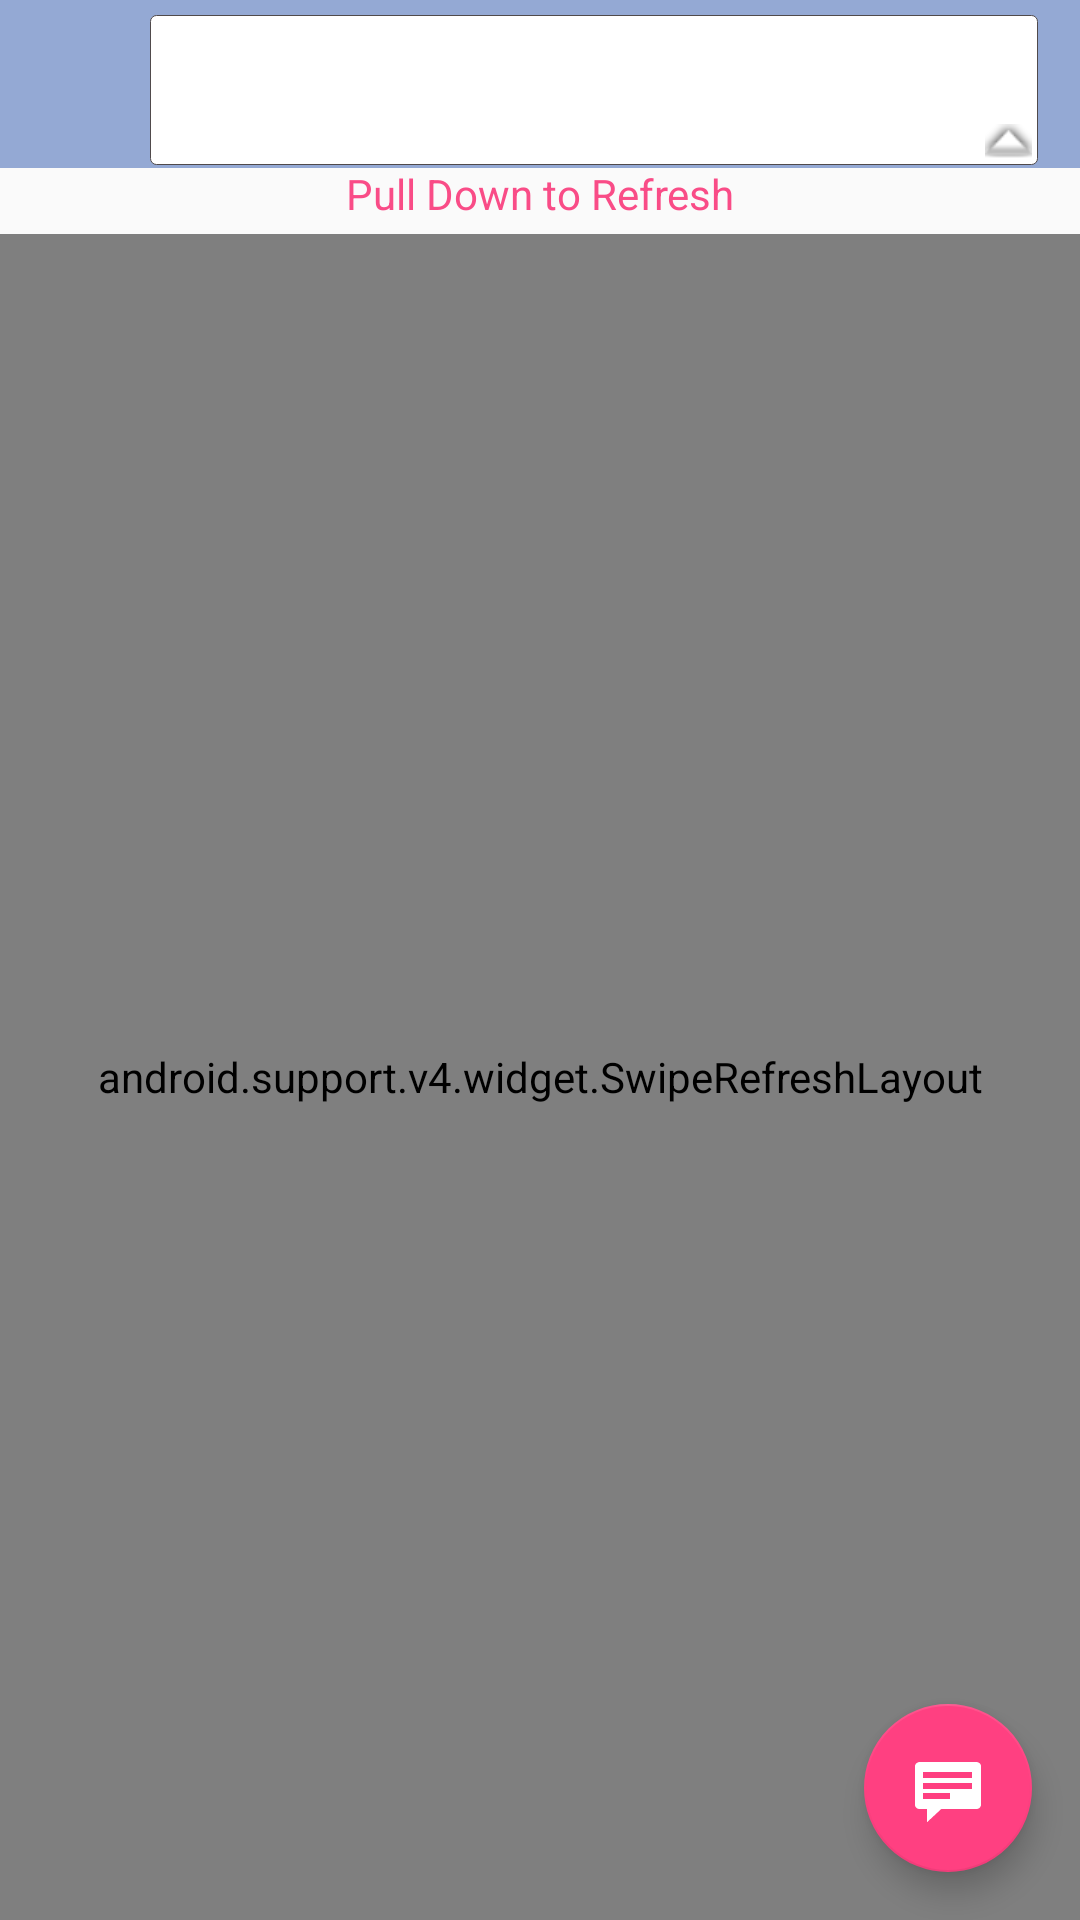

Icon click points for this 1080 x 1920 phone screenshot, format point (x, y):
chat: point (948, 1788)
